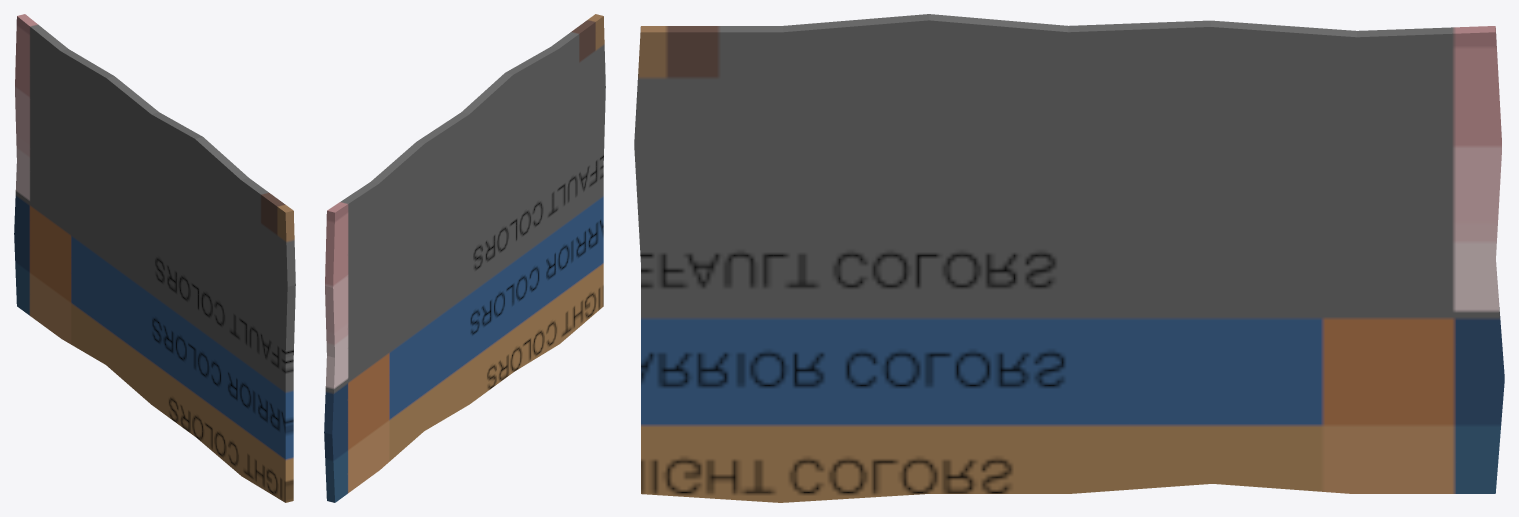
Rendered from SM_Flag_Pirate_03.glb.
3 renders of one model, left to right at view 1: azimuth 30°, elevation 25°; view 2: azimuth 150°, elevation 25°; view 3: azimuth 270°, elevation 25°, orthographic. The views are drawn at different scales.
Parts seen in each view (by area): view 1: SM_Flag_Pirate_03_00; view 2: SM_Flag_Pirate_03_00; view 3: SM_Flag_Pirate_03_00.
Part boxes in pixels (x1,y1,x2,y2): SM_Flag_Pirate_03_00: (14, 14, 295, 502); SM_Flag_Pirate_03_00: (324, 14, 605, 502); SM_Flag_Pirate_03_00: (634, 14, 1504, 502).
Size of the model in its own units: 0.0403 by 1.42 by 2.32.
Materials: 1 (1 with a texture image).
